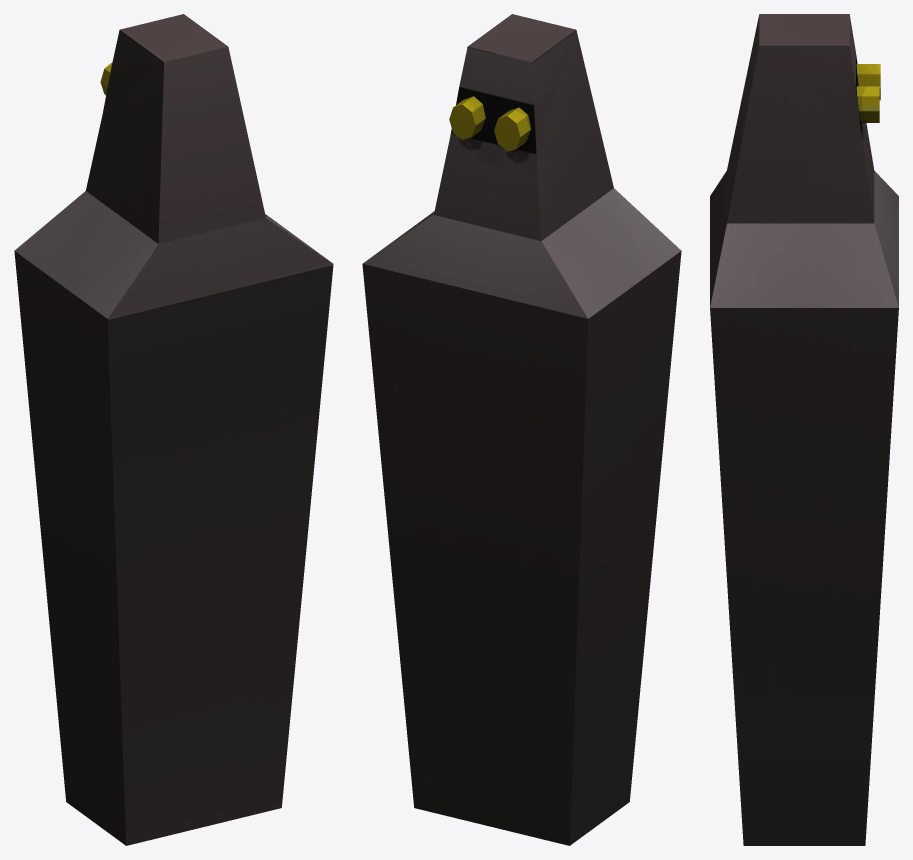
The model's file is doublebaker2.dae.
3 renders of one model, left to right at view 1: azimuth 30°, elevation 25°; view 2: azimuth 150°, elevation 25°; view 3: azimuth 270°, elevation 25°, orthographic.
Parts seen in each view (by area): view 1: doublethrower; view 2: doublethrower; view 3: doublethrower.
Boxes of the visible parts, x1,y1,x2,y2 form: doublethrower: [14, 14, 333, 845]; doublethrower: [362, 14, 681, 845]; doublethrower: [710, 14, 898, 845].
Bounding box in the file's own units: 1.4 × 1 × 4.54.
1 material, 1 textured.
